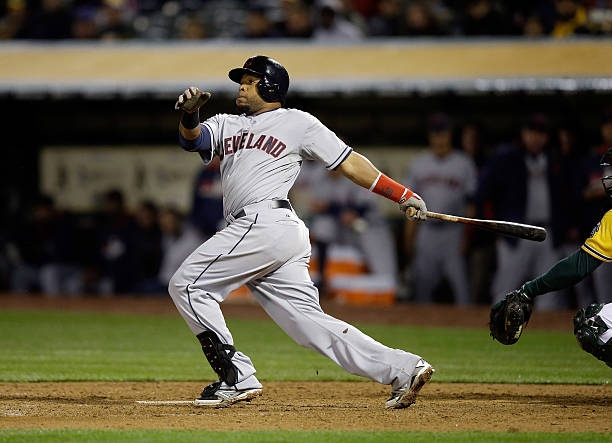bita: (405, 205, 549, 242)
